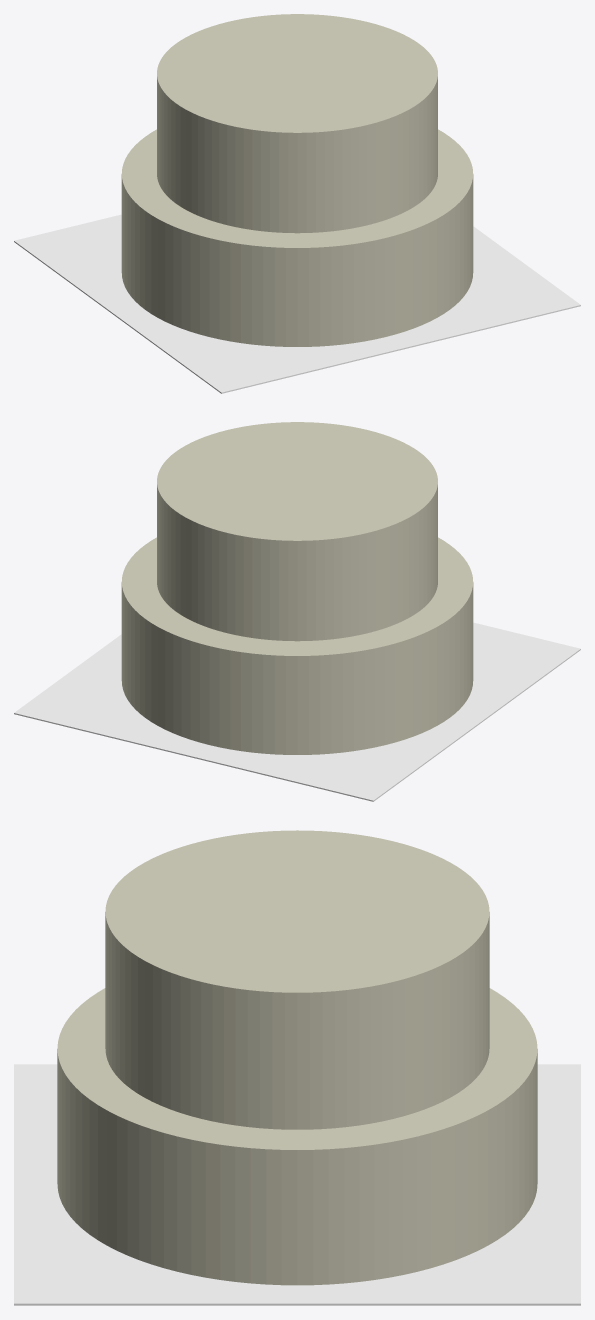
Rendered from cake_tier2_10-8_layers2_v26.glb.
3 views of the same model, one above another, from view 1: azimuth 30°, elevation 25°; view 2: azimuth 150°, elevation 25°; view 3: azimuth 270°, elevation 25° (orthographic). The views are drawn at different scales.
Visible parts, largest first — view 1: Tier1, Tier0, Board; view 2: Tier1, Tier0, Board; view 3: Tier1, Tier0, Board.
Part boxes in pixels (left/top/right/bottom): Tier1: left=157, top=14, right=437, bottom=233; Tier0: left=121, top=129, right=473, bottom=346; Board: left=14, top=214, right=580, bottom=393; Tier1: left=157, top=422, right=437, bottom=641; Tier0: left=121, top=537, right=473, bottom=754; Board: left=14, top=622, right=580, bottom=801; Tier1: left=105, top=830, right=489, bottom=1129; Tier0: left=57, top=988, right=537, bottom=1285; Board: left=14, top=1064, right=580, bottom=1305.
Size of the model in its own units: 0.3 by 0.16 by 0.3.
